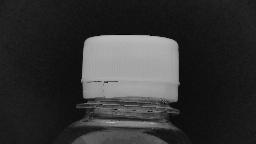Broken Ring: (78, 75, 182, 103)
Loose Cap: (69, 72, 189, 118)
